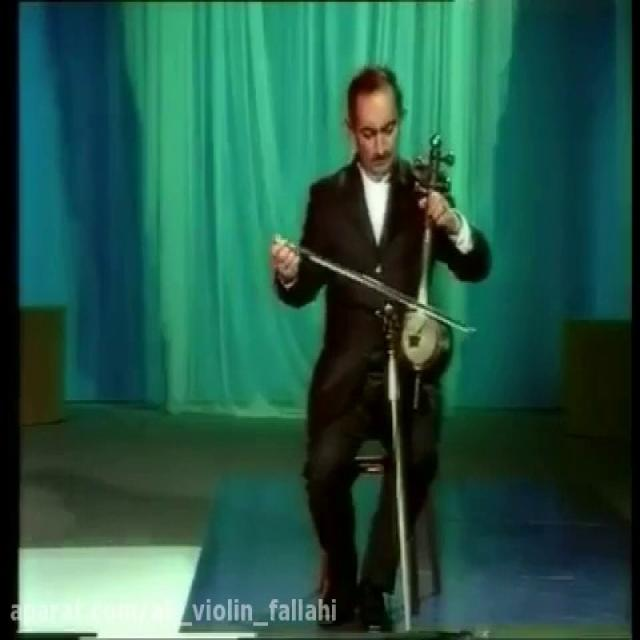Kamanche: (399, 138, 454, 386)
